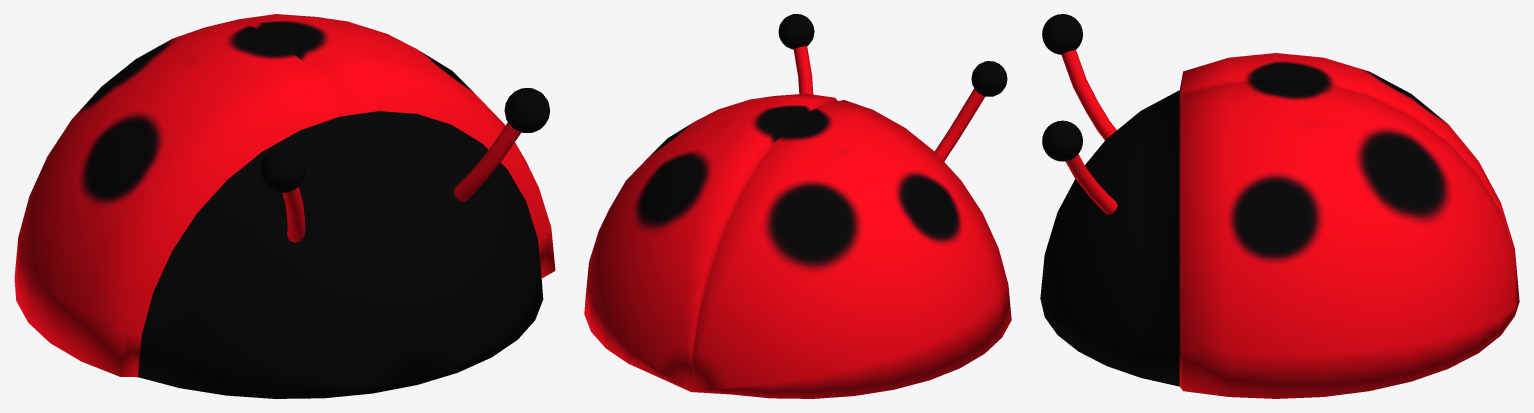
The model's file is ladybag.FBX.
3 views of the same model, side by side, from view 1: azimuth 30°, elevation 25°; view 2: azimuth 150°, elevation 25°; view 3: azimuth 270°, elevation 25° (orthographic). The views are drawn at different scales.
Visible parts, largest first — view 1: Sphere; view 2: Sphere; view 3: Sphere.
Boxes of the visible parts, x1,y1,x2,y2 form: Sphere: (14,14,555,398); Sphere: (584,14,1011,398); Sphere: (1040,14,1519,398).
Size of the model in its own units: 37.19 by 36.62 by 19.61.
Materials: 1 (1 with a texture image).
